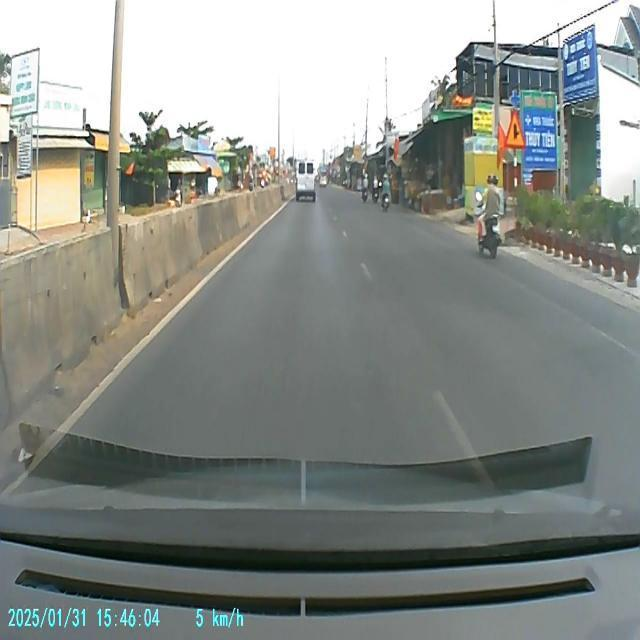207-giao-nhau-voi-duong-khong-uu-tien: (504, 108, 528, 152)
